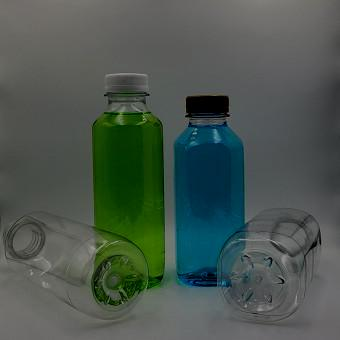bottle: (3, 212, 150, 322), (90, 72, 165, 286), (220, 195, 326, 326), (172, 95, 239, 288)
